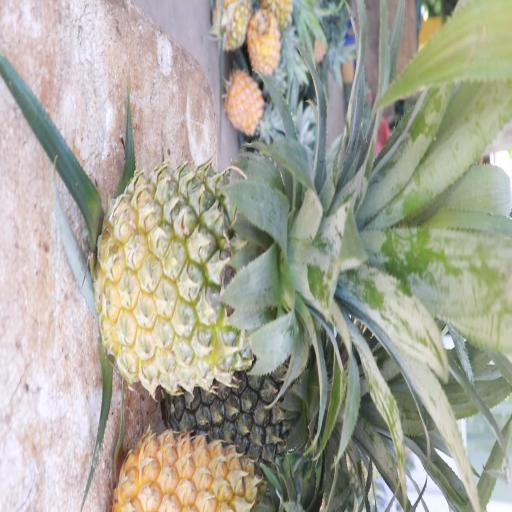------------------------------: (98, 163, 313, 392)
Pineapple - v8 v1: (113, 417, 303, 512), (221, 67, 266, 137), (245, 4, 283, 75)
